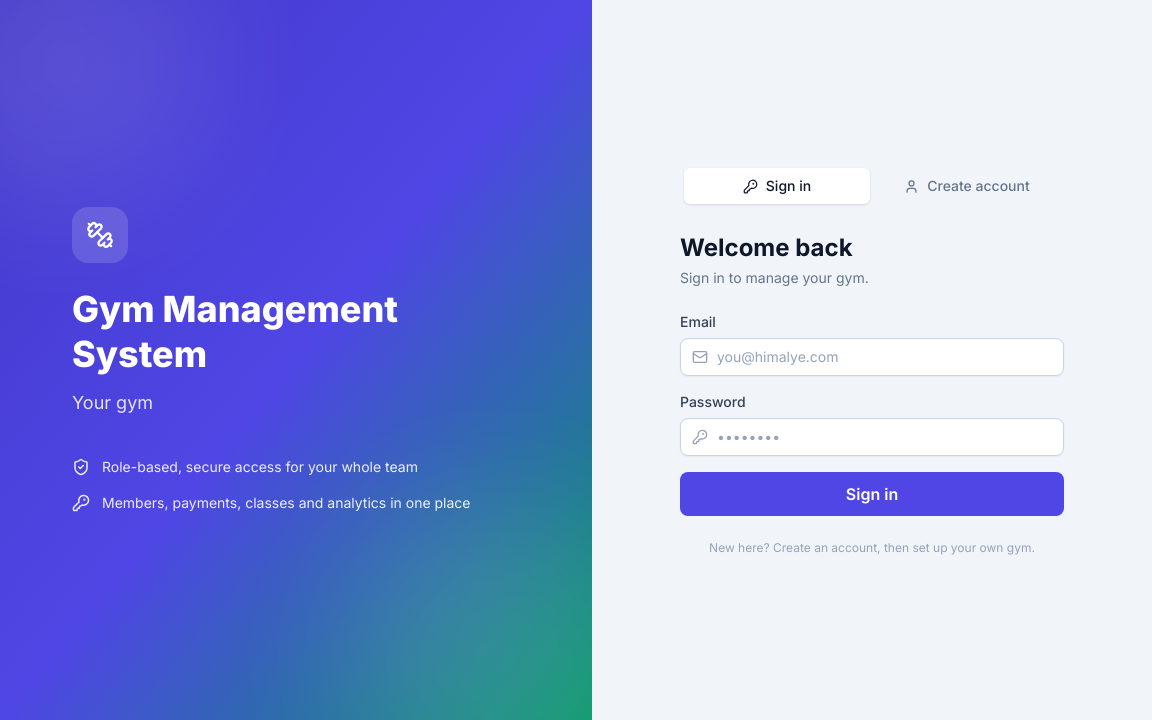
Scenario: Login authentication failures › clears the error banner when switching between sign in and create account
Type "owner@himalye.com" into the field with placeholder "you@himalye.com" at (872,357), box [680,338,1064,376]
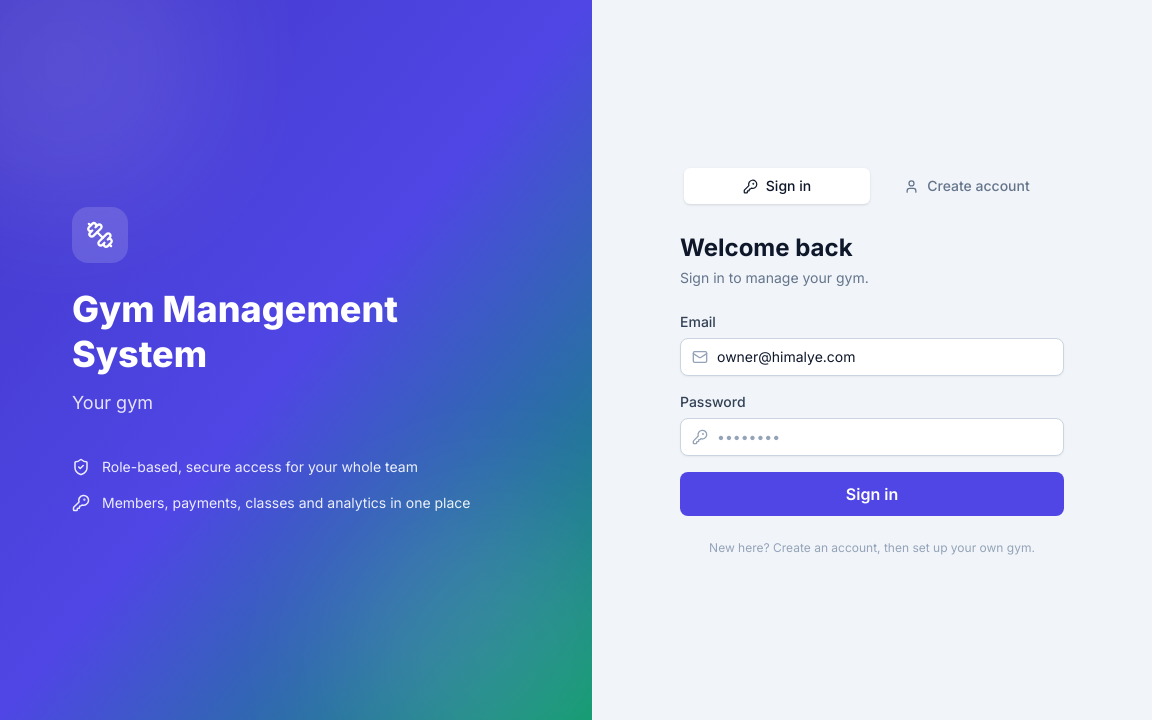
Type "secret123" into the password field with placeholder "••••••••" at (872,437), box [680,418,1064,456]
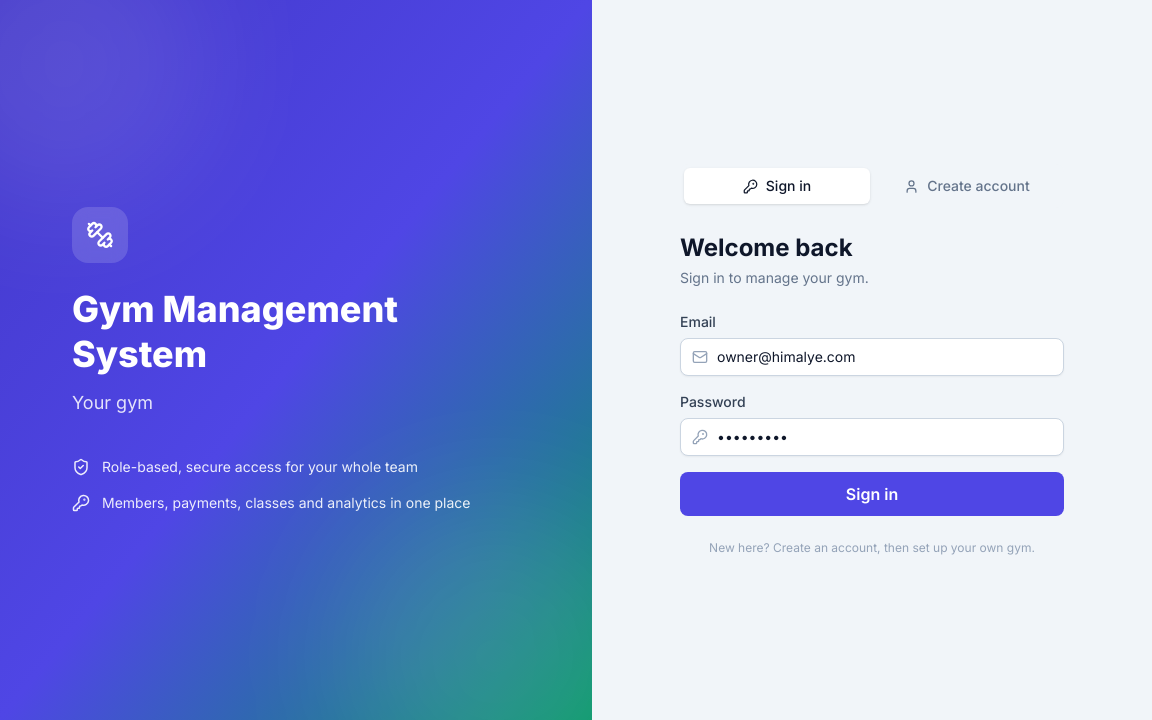
Submit the form, box [680,312,1064,516]
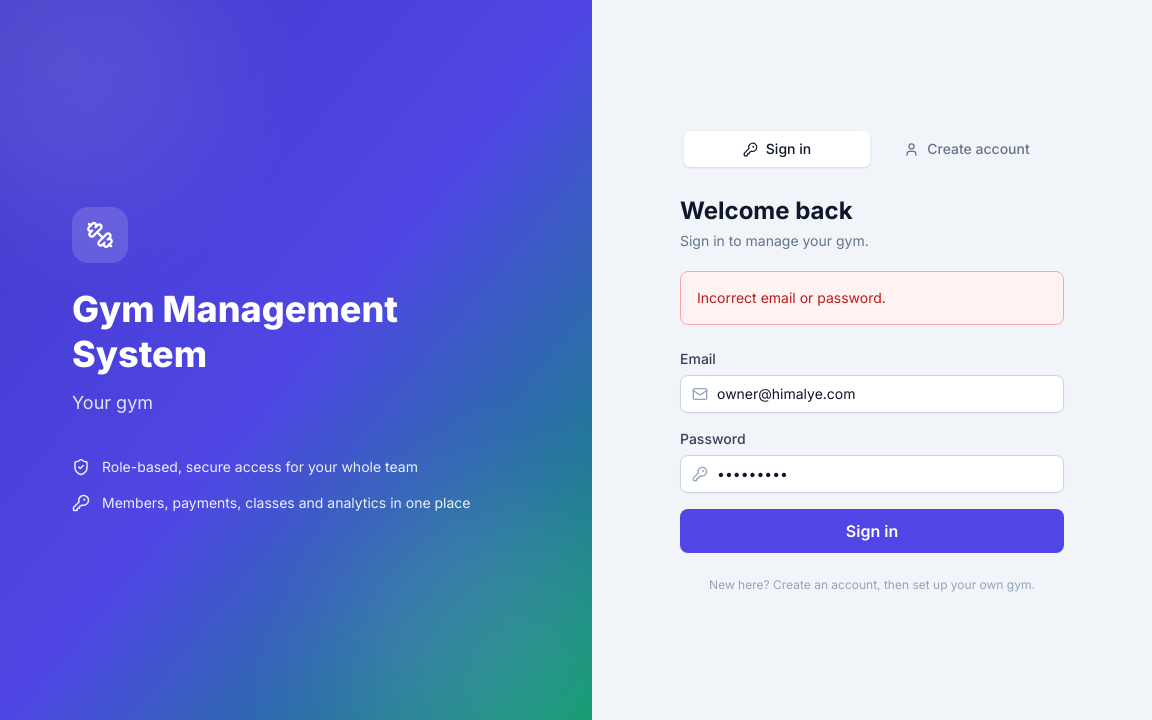
Now the text "Incorrect email or password." is shown, box [680,271,1064,325]
Click the button "Create account" at (967,149), box [874,131,1060,167]
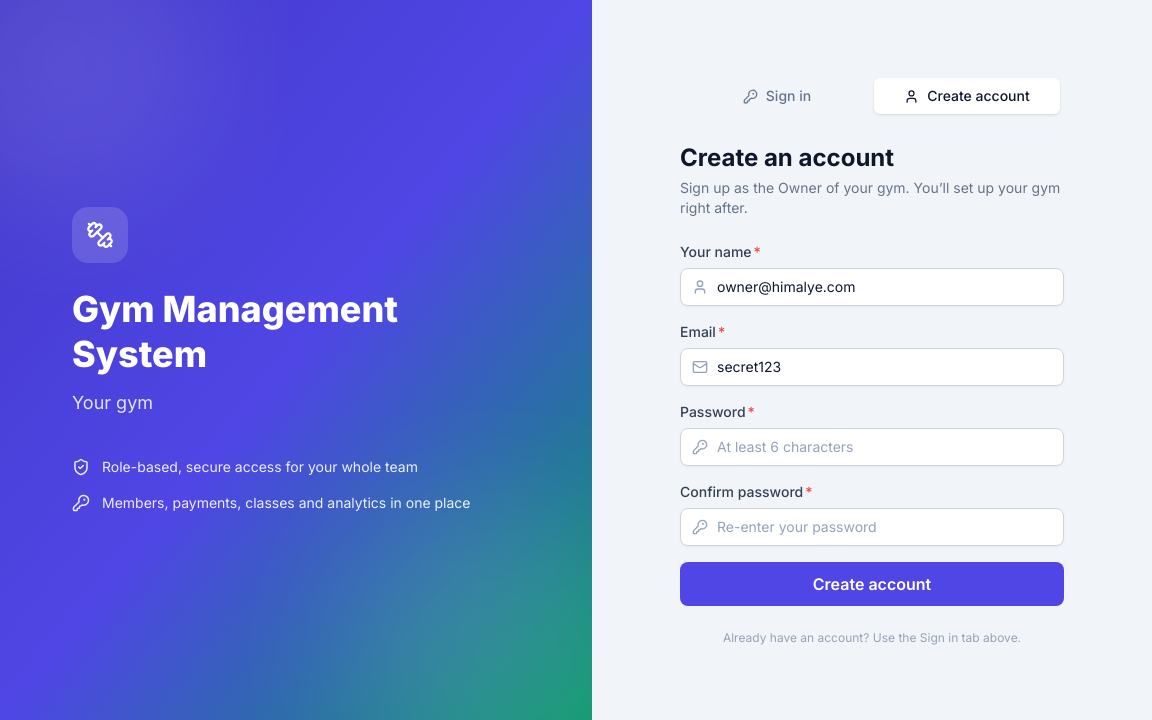
Now the text "Incorrect email or password." is gone
